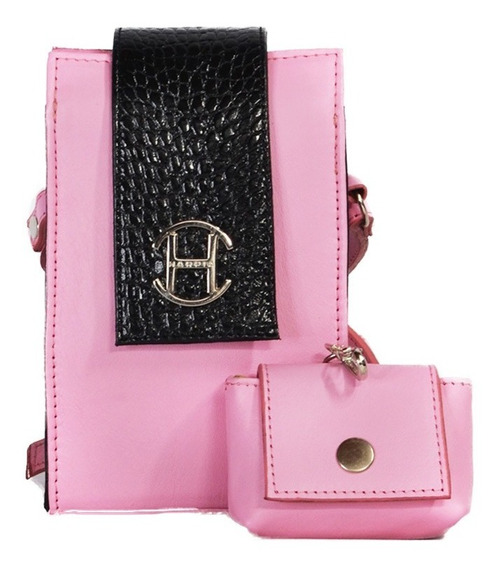cartera: (27, 24, 484, 546)
